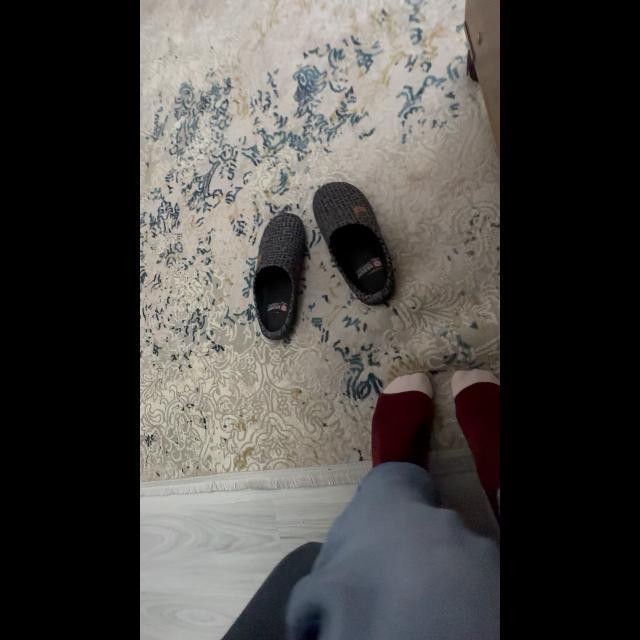slipper: (308, 178, 406, 308), (248, 208, 314, 348)
